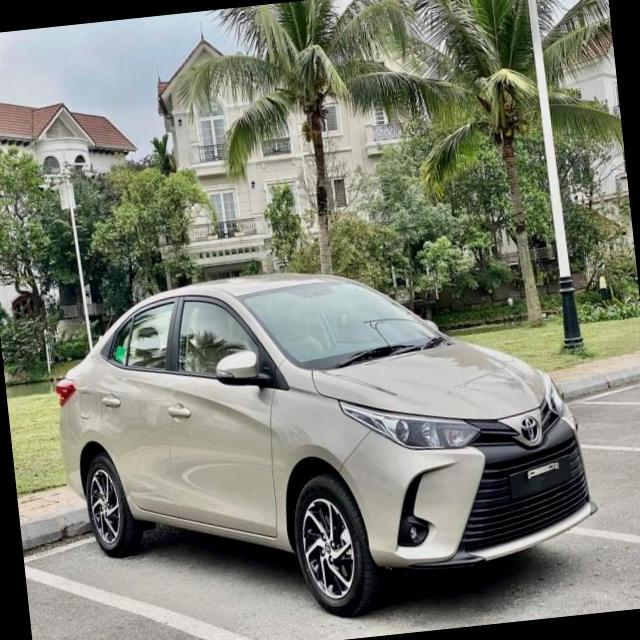ToyotaVios: (43, 238, 606, 640)
